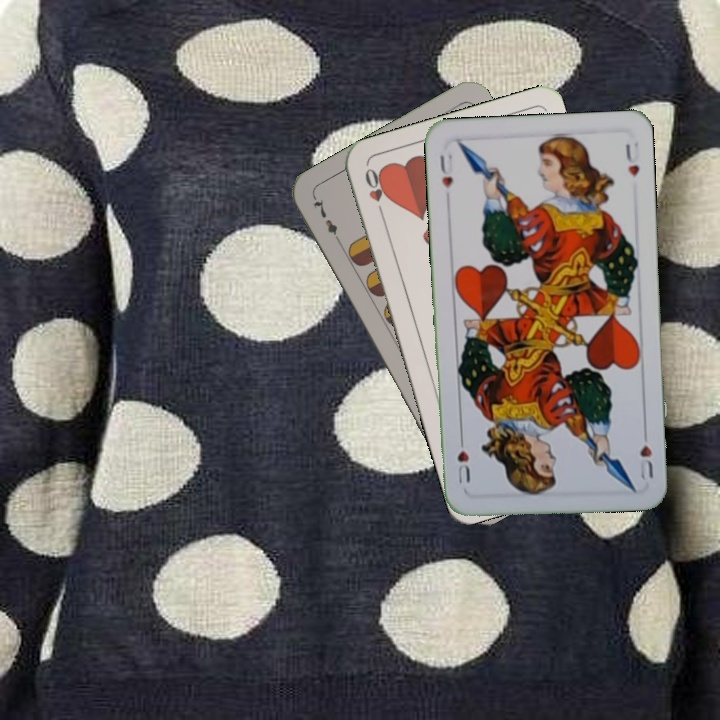E7: (309, 193, 344, 248)
HO: (360, 164, 389, 221)
HU: (635, 425, 656, 482), (435, 150, 456, 191)
